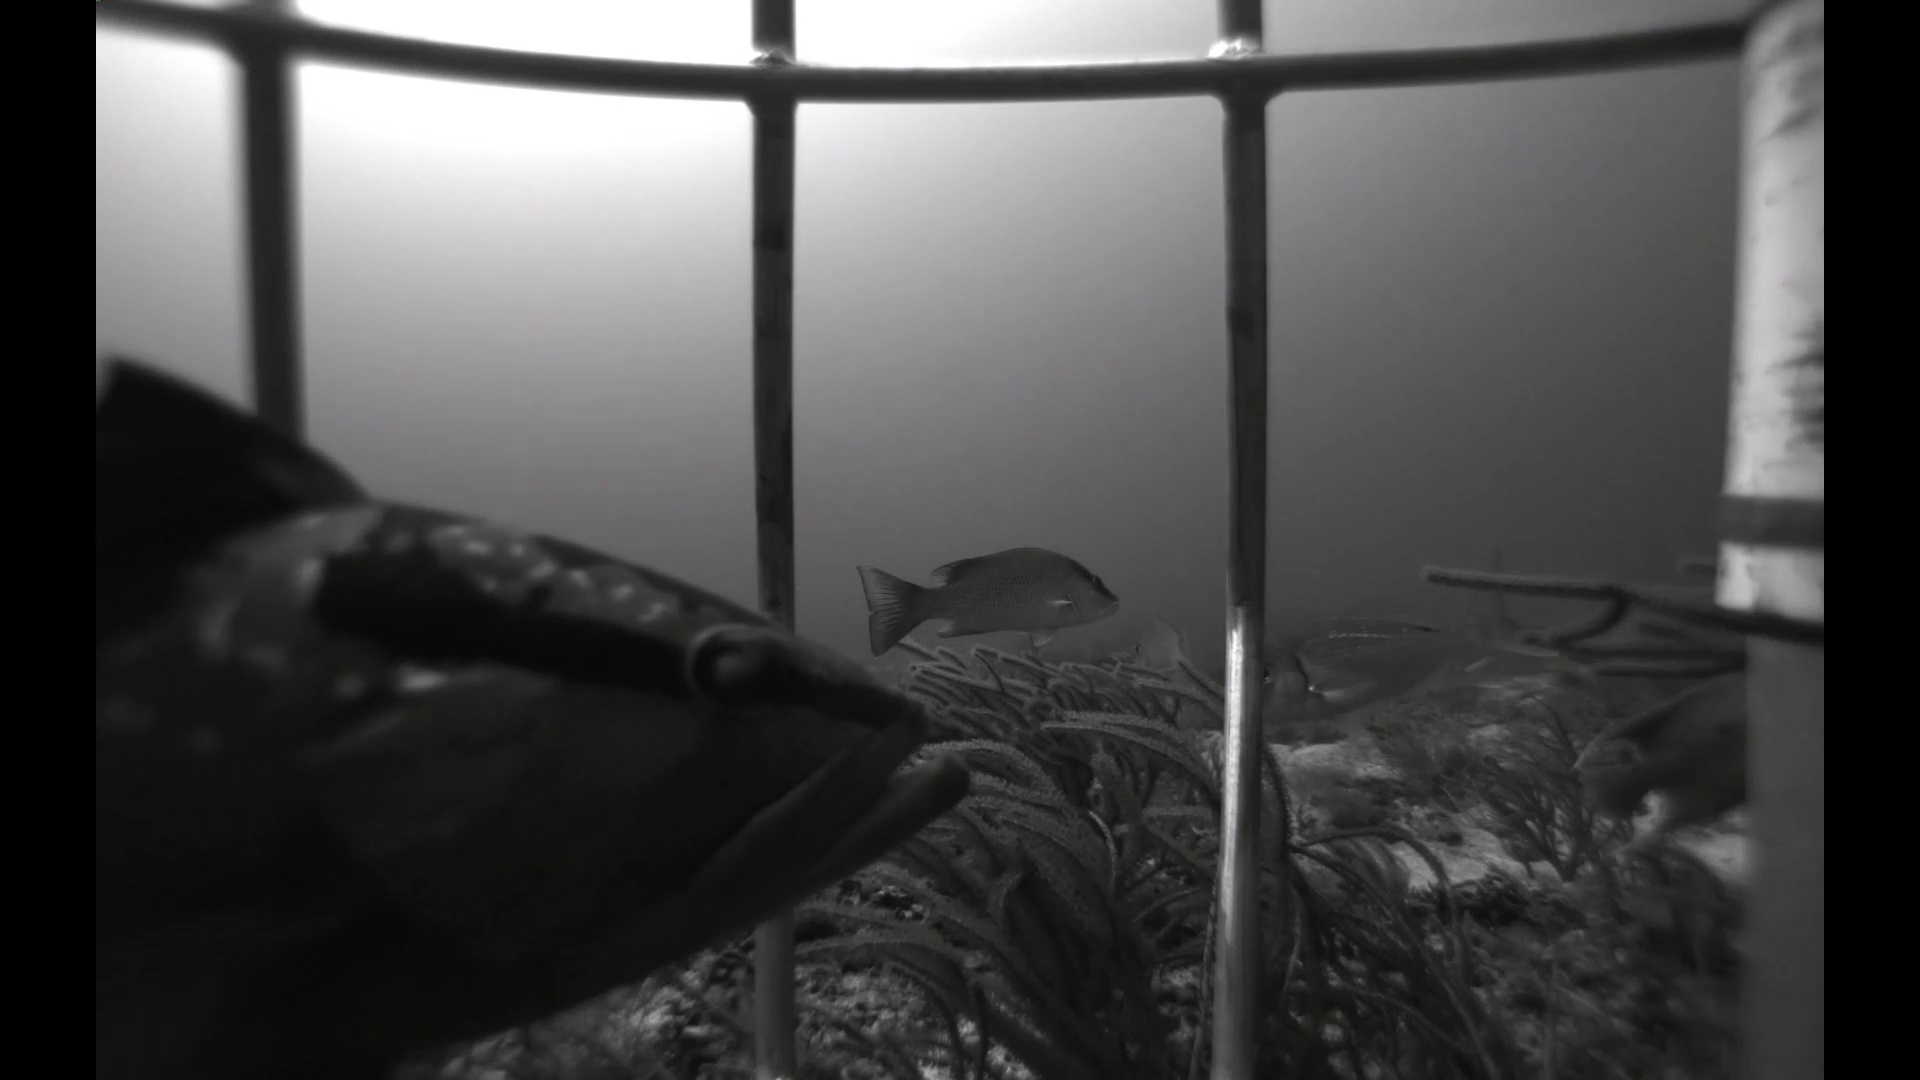CALAMUSNODOSUS-170210608: (1129, 615, 1195, 676)
EPINEPHELUSMORIO-170021211: (102, 336, 984, 1071)
HOLACANTHUSBERMUDENSIS-170290102: (1549, 670, 1749, 876)
LUTJANUSGRISEUS-170151109: (847, 541, 1127, 670), (1396, 599, 1600, 709)
PAGRUSPAGRUS-170212302: (1259, 543, 1575, 729)
